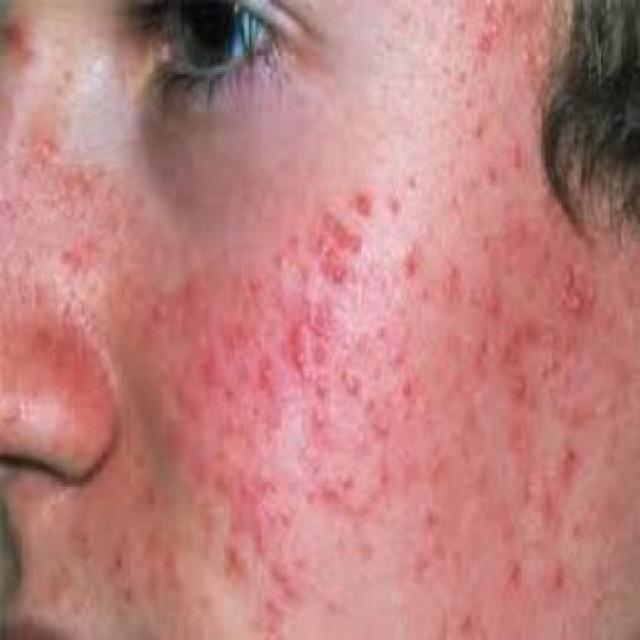papules: (482, 276, 524, 332), (394, 230, 432, 285), (549, 436, 588, 485), (212, 540, 255, 584), (504, 371, 542, 413), (312, 484, 356, 520), (549, 253, 582, 301), (385, 334, 417, 383), (306, 399, 336, 440), (546, 559, 571, 607), (323, 255, 355, 292), (395, 378, 423, 420), (349, 181, 378, 218), (336, 368, 364, 406), (289, 316, 322, 346), (268, 561, 295, 596), (342, 464, 366, 501), (568, 290, 597, 318), (290, 346, 312, 376), (376, 427, 404, 450)
